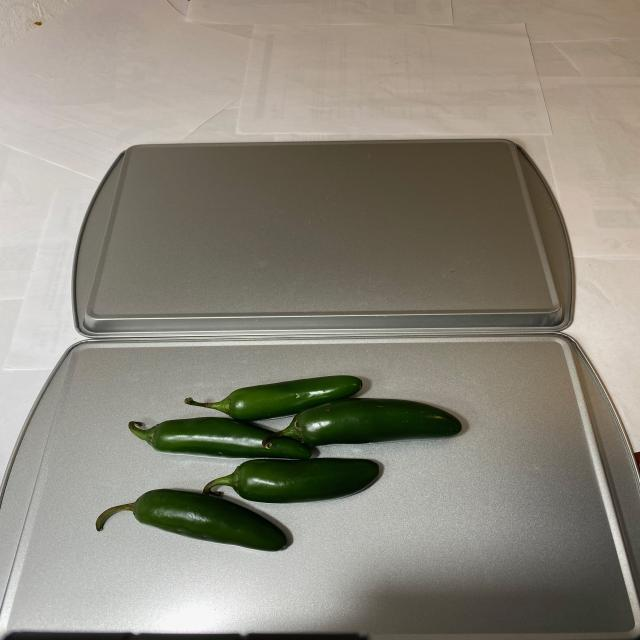chilli: (88, 370, 464, 549)
